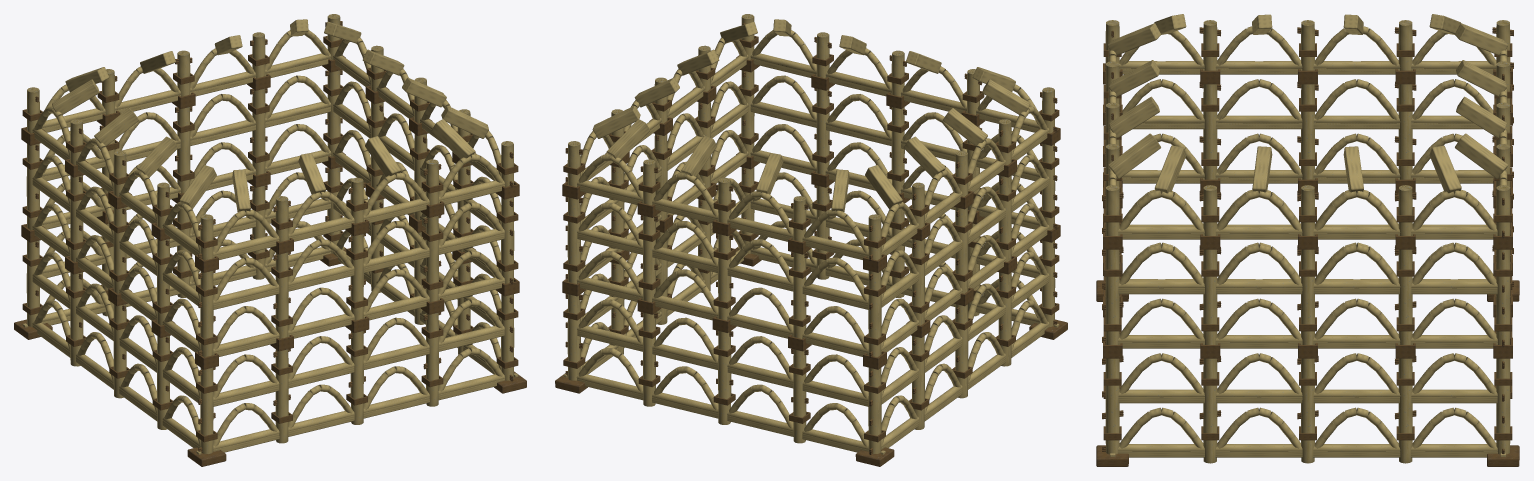
3 renders of one model, left to right at view 1: azimuth 30°, elevation 25°; view 2: azimuth 150°, elevation 25°; view 3: azimuth 270°, elevation 25°, orthographic. The views are drawn at different scales.
Parts seen in each view (by area): view 1: Tier 0 side 0 post 1, Tier 0 side 0 post 2, Tier 0 side 0 post 0, Tier 1 side 0 post 0, Tier 0 side 0 post 3, Tier 1 side 0 post 1, Tier 1 side 2 post 1, Tier 1 side 0 post 2, Tier 1 side 2 post 2, Tier 1 side 0 post 3, Tier 0 side 3 post 2, Tier 0 side 1 post 0 (+25 smaller); view 2: Tier 0 side 2 post 3, Tier 0 side 2 post 2, Tier 0 side 2 post 1, Tier 0 side 3 post 0, Tier 1 side 3 post 0, Tier 1 side 0 post 3, Tier 1 side 2 post 3, Tier 0 side 2 post 0, Tier 1 side 2 post 0, Tier 1 side 2 post 2, Tier 1 side 0 post 2, Tier 1 side 2 post 1 (+24 smaller); view 3: Tier 0 side 1 post 3, Tier 0 side 1 post 1, Tier 0 side 1 post 2, Tier 0 side 1 post 0, Tier 1 side 1 post 0, Tier 1 side 3 post 3, Tier 1 side 1 post 3, Tier 1 side 3 post 1, Tier 1 side 1 post 1, Tier 0 side 2 post 0, Tier 1 side 2 post 0, Tier 1 side 1 post 2 (+86 smaller).
Boxes of the visible parts, <box> form: Tier 0 side 0 post 1: <box>275,349,288,443</box>; Tier 0 side 0 post 2: <box>350,331,363,424</box>; Tier 0 side 0 post 0: <box>200,367,213,453</box>; Tier 1 side 0 post 0: <box>200,271,213,357</box>; Tier 0 side 0 post 3: <box>426,312,438,406</box>; Tier 1 side 0 post 1: <box>275,252,288,338</box>; Tier 1 side 2 post 1: <box>252,88,265,175</box>; Tier 1 side 0 post 2: <box>350,234,363,320</box>; Tier 1 side 2 post 2: <box>177,107,190,193</box>; Tier 1 side 0 post 3: <box>426,215,438,302</box>; Tier 0 side 3 post 2: <box>113,304,126,398</box>; Tier 0 side 1 post 0: <box>501,294,514,380</box>; Tier 0 side 2 post 3: <box>793,349,806,443</box>; Tier 0 side 2 post 2: <box>718,331,731,424</box>; Tier 0 side 2 post 1: <box>643,312,655,406</box>; Tier 0 side 3 post 0: <box>868,367,881,453</box>; Tier 1 side 3 post 0: <box>868,271,881,357</box>; Tier 1 side 0 post 3: <box>816,88,829,175</box>; Tier 1 side 2 post 3: <box>793,252,806,338</box>; Tier 0 side 2 post 0: <box>567,294,580,380</box>; Tier 1 side 2 post 0: <box>567,197,580,283</box>; Tier 1 side 2 post 2: <box>718,234,731,320</box>; Tier 1 side 0 post 2: <box>891,107,904,193</box>; Tier 1 side 2 post 1: <box>643,215,655,302</box>; Tier 0 side 1 post 3: <box>1398,358,1412,463</box>; Tier 0 side 1 post 1: <box>1203,358,1217,463</box>; Tier 0 side 1 post 2: <box>1301,358,1314,463</box>; Tier 0 side 1 post 0: <box>1105,358,1119,454</box>; Tier 1 side 1 post 0: <box>1105,249,1119,344</box>; Tier 1 side 3 post 3: <box>1203,84,1217,179</box>; Tier 1 side 1 post 3: <box>1398,249,1412,344</box>; Tier 1 side 3 post 1: <box>1398,84,1412,179</box>; Tier 1 side 1 post 1: <box>1203,249,1217,344</box>; Tier 0 side 2 post 0: <box>1496,358,1510,454</box>; Tier 1 side 2 post 0: <box>1496,249,1510,344</box>; Tier 1 side 1 post 2: <box>1301,249,1314,344</box>.
Bounding box in the file's own units: 1.95 × 1.51 × 1.95.
2 materials, 2 textured.
